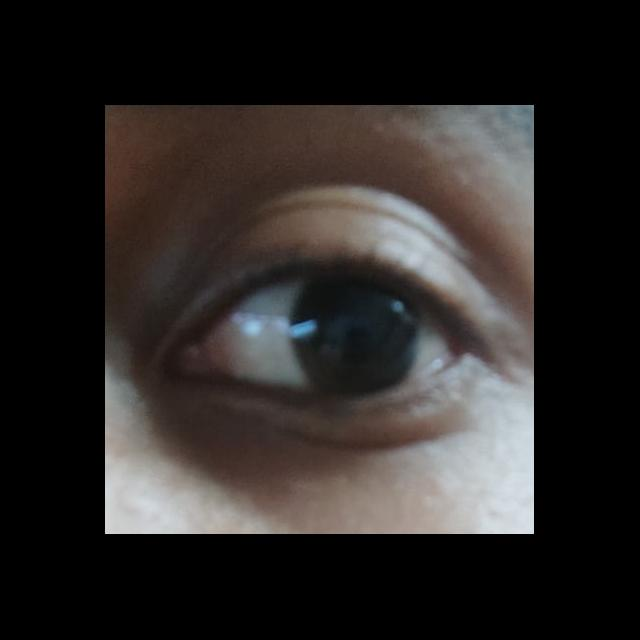eye: (217, 268, 465, 402)
iris: (291, 275, 422, 396)
